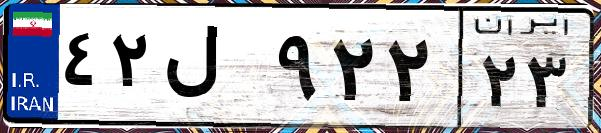2: (385, 28, 445, 110), (330, 28, 385, 110), (475, 38, 525, 113), (110, 28, 158, 98)
3: (525, 38, 570, 115)
4: (57, 26, 110, 100)
9: (270, 28, 330, 110)
ل: (158, 20, 270, 120)
